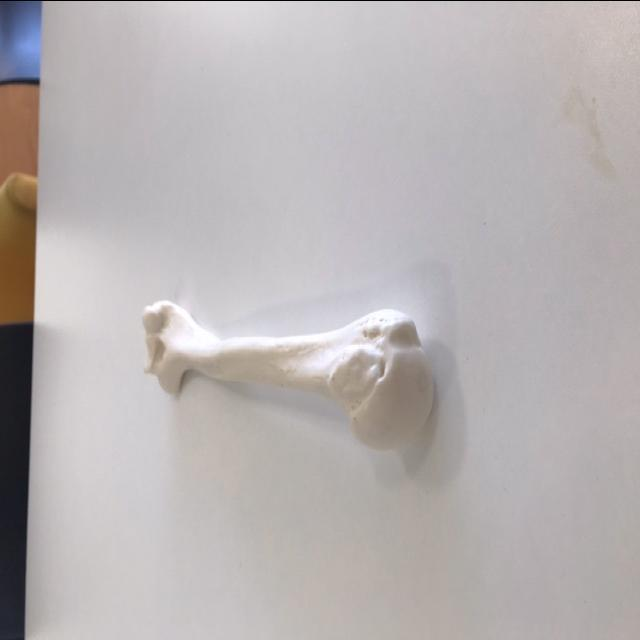bone: (136, 289, 446, 461)
